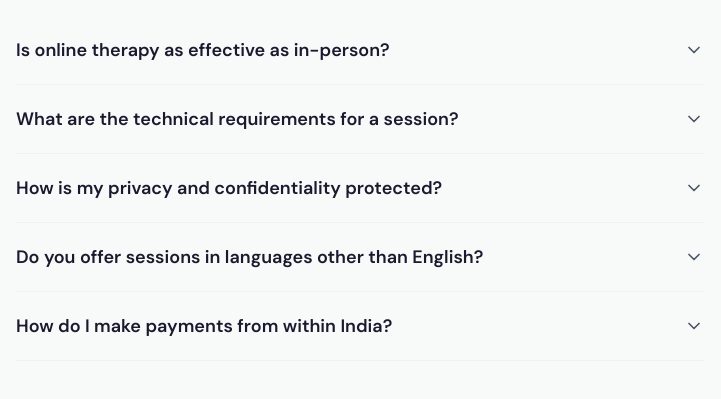
Test: FAQSection › expands and collapses on click
The width and height of the screenshot is (721, 399).
# Click to expand
Click the button "Is online therapy as effective as in-person?". click: (360, 50)
box: [16,16,704,84]
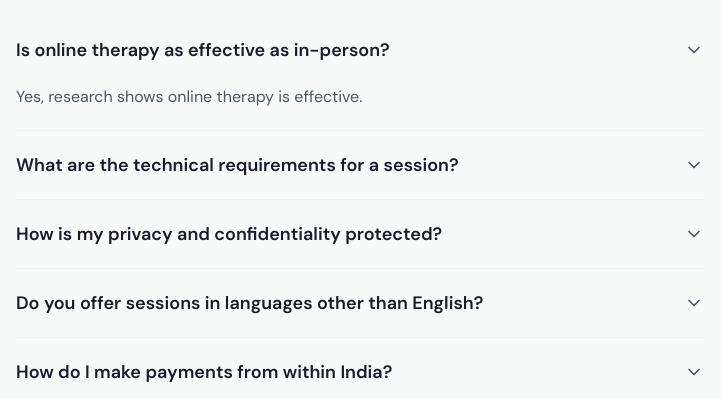
Now the text "Yes, research shows online therapy is effective." is shown, box [16,86,362,107]
# Click to collapse
Click the button "Is online therapy as effective as in-person?". click: (360, 50)
box: [16,16,704,84]
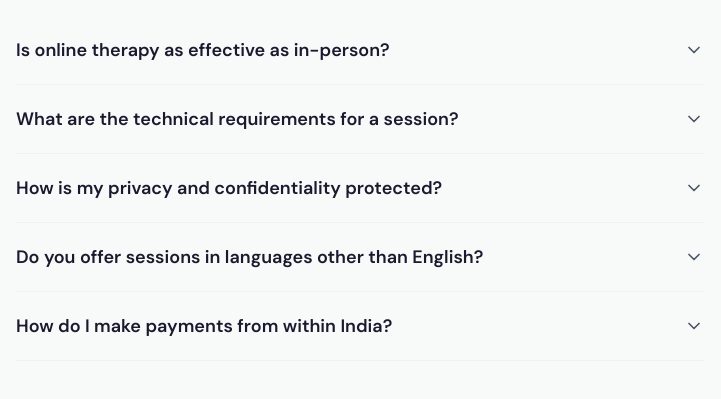
Now the text "Yes, research shows online therapy is effective." is gone
